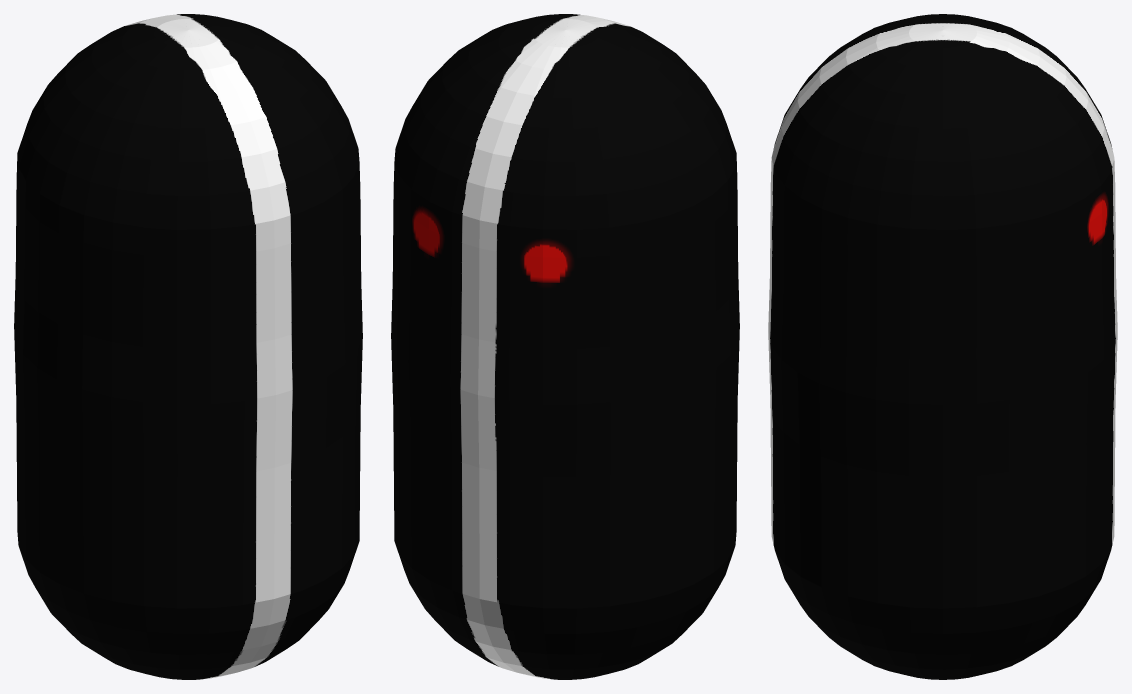
The model's file is ninja_test.dae.
3 views of the same model, side by side, from view 1: azimuth 30°, elevation 25°; view 2: azimuth 150°, elevation 25°; view 3: azimuth 270°, elevation 25° (orthographic).
Visible parts, largest first — view 1: Sphere; view 2: Sphere; view 3: Sphere.
Part boxes in pixels (x1,y1,x2,y2): Sphere: (14,14,362,679); Sphere: (391,14,739,679); Sphere: (768,14,1117,679).
Size of the model in its own units: 1 by 1 by 2.
1 material, 1 textured.
